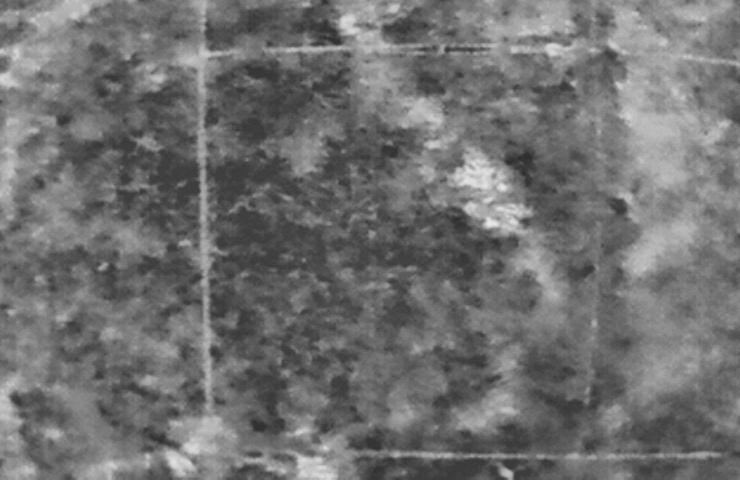landmines: (454, 156, 515, 196)
